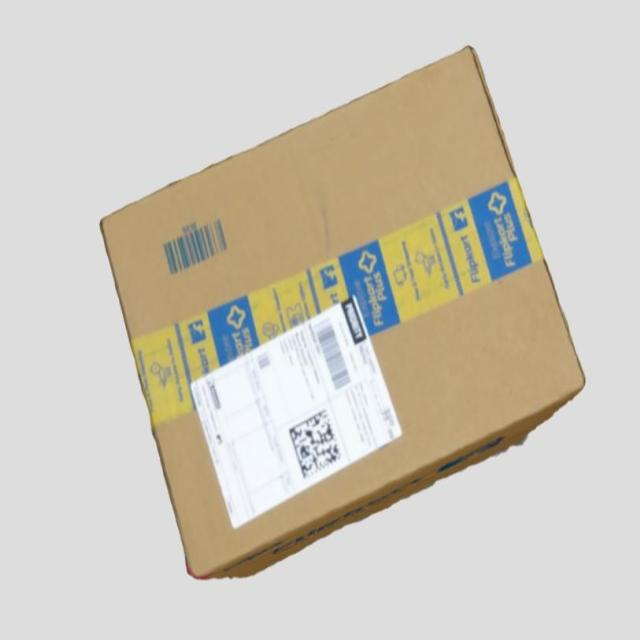box: (101, 46, 585, 578)
